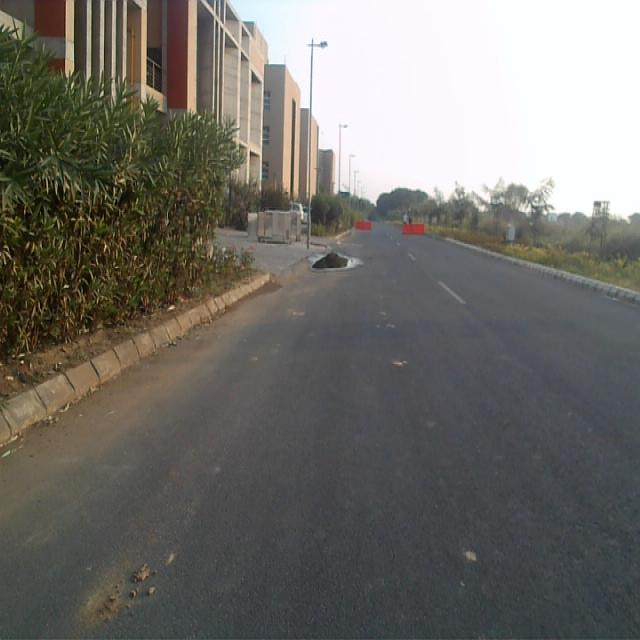lane: (0, 232, 640, 640)
